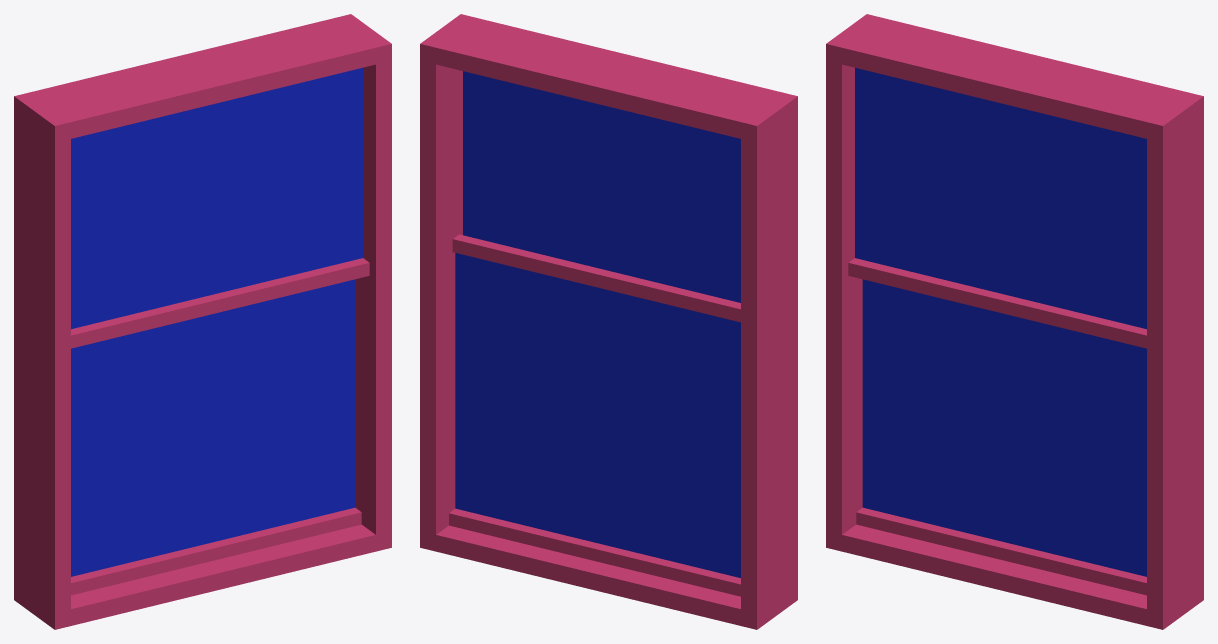
Rendered from skeletal_window.fbx.
3 renders of one model, left to right at view 1: azimuth 30°, elevation 25°; view 2: azimuth 150°, elevation 25°; view 3: azimuth 330°, elevation 25°, orthographic.
Visible parts, largest first — view 1: Cube, Cube.003; view 2: Cube, Cube.003; view 3: Cube, Cube.003.
Part boxes in pixels (x1,y1,x2,y2): Cube: (14,14,391,629); Cube.003: (71,279,361,595); Cube: (420,14,797,629); Cube.003: (449,234,740,596); Cube: (826,14,1203,629); Cube.003: (856,279,1146,595).
Bounding box in the file's own units: 105 × 150 × 22.
